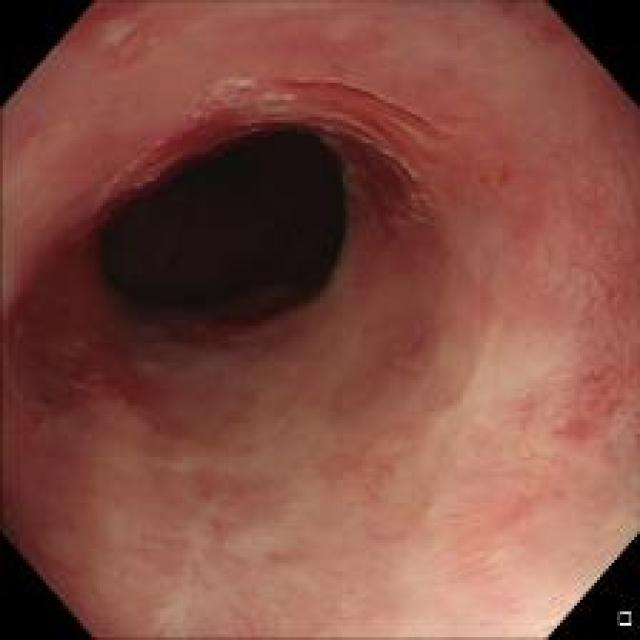contrast: (80, 101, 344, 334)
